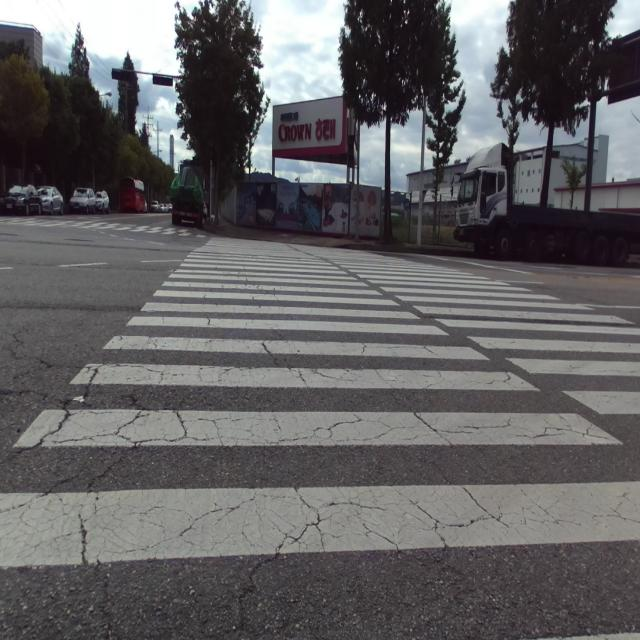횡단보도: (0, 236, 640, 640), (2, 212, 200, 236)
